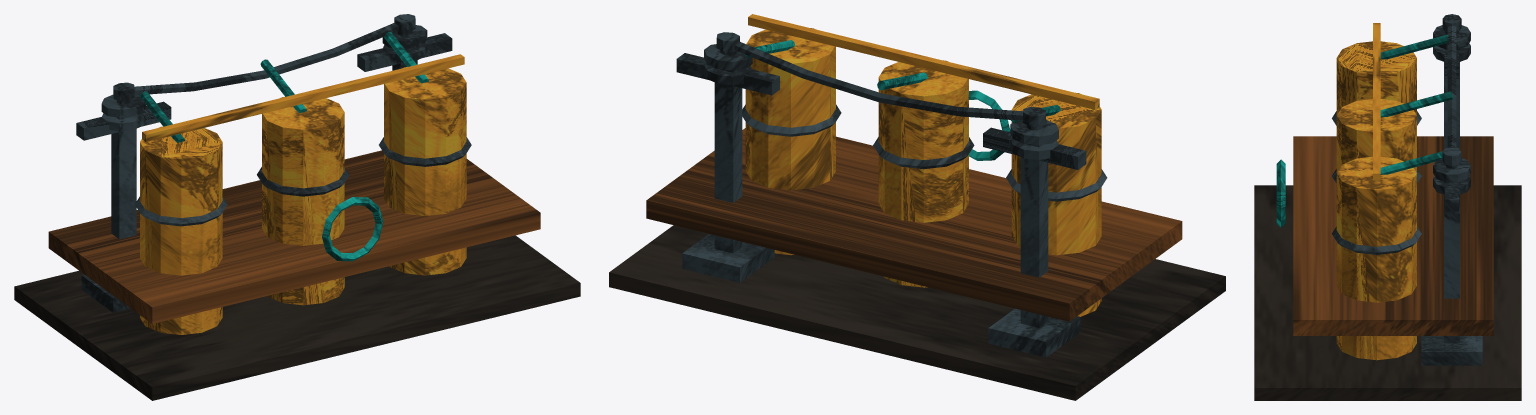
File: breath-bank-service-rack.glb
3 views of the same model, side by side, from view 1: azimuth 30°, elevation 25°; view 2: azimuth 150°, elevation 25°; view 3: azimuth 270°, elevation 25° (orthographic). The views are drawn at different scales.
Visible parts, largest first — view 1: breath-bank-service-rack; view 2: breath-bank-service-rack; view 3: breath-bank-service-rack.
Boxes of the visible parts, x1,y1,x2,y2 form: breath-bank-service-rack: [14, 14, 580, 400]; breath-bank-service-rack: [609, 14, 1225, 400]; breath-bank-service-rack: [1254, 14, 1521, 400].
Bounding box in the file's own units: 8.6 × 4.25 × 4.8.
Materials: 1 (1 with a texture image).
